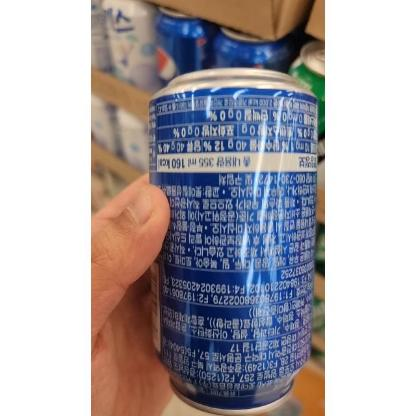Can: (148, 62, 320, 416)
